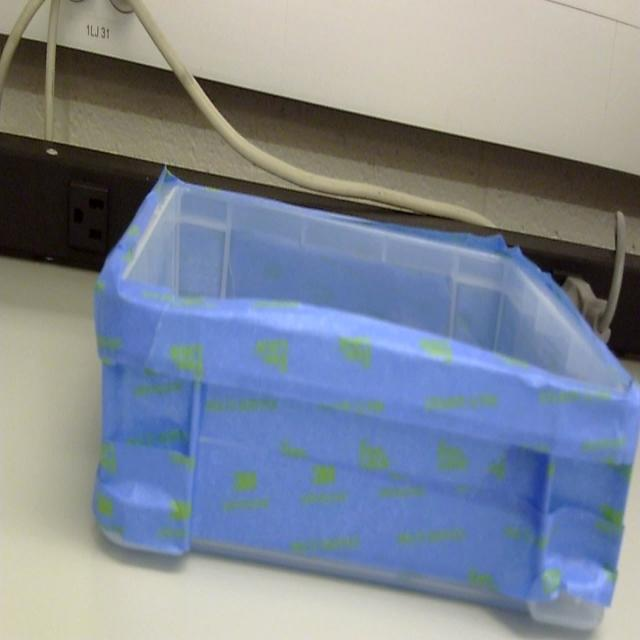bucket: (91, 170, 640, 638)
